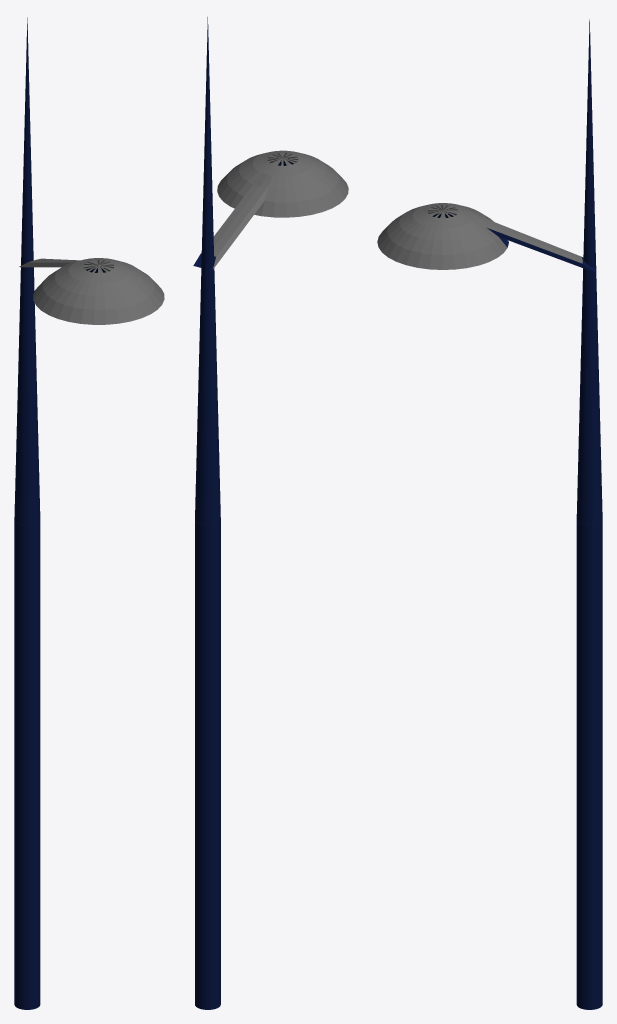
Rendered from light2.glb.
3 renders of one model, left to right at view 1: azimuth 30°, elevation 25°; view 2: azimuth 150°, elevation 25°; view 3: azimuth 270°, elevation 25°, orthographic.
Visible parts, largest first — view 1: 球体; view 2: 球体; view 3: 球体.
Part boxes in pixels (<box>): 球体: <box>14,17,164,1009</box>; 球体: <box>193,17,348,1009</box>; 球体: <box>377,19,602,1009</box>.
Size of the model in its own units: 1.66 by 13.8 by 2.85.
